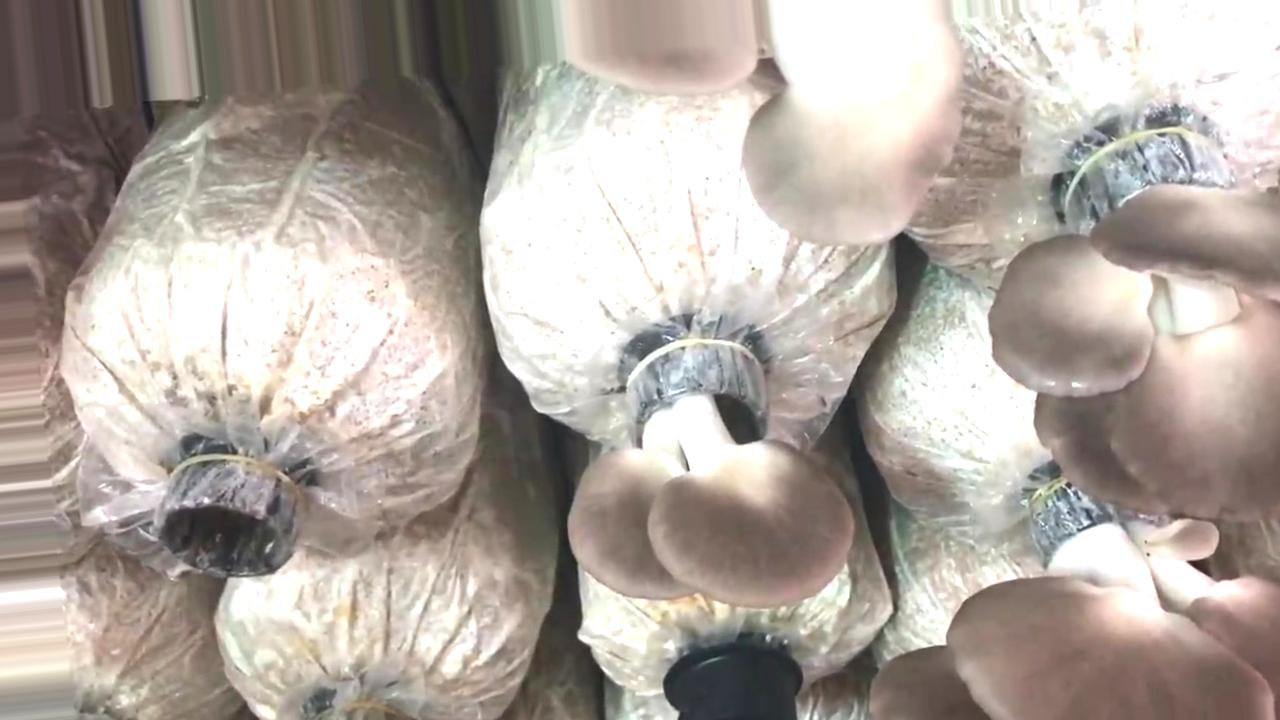nam: (993, 124, 1280, 517), (868, 470, 1275, 720), (570, 332, 855, 609), (745, 1, 963, 246), (555, 1, 755, 96)
